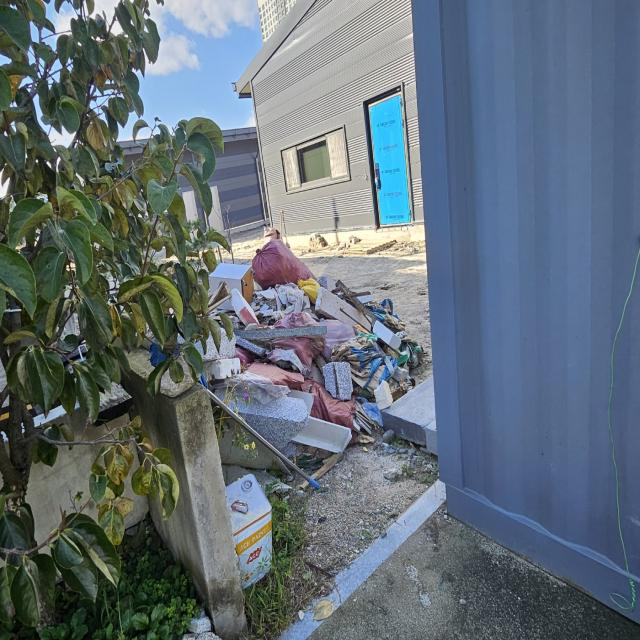General Waste: (187, 234, 424, 479)
